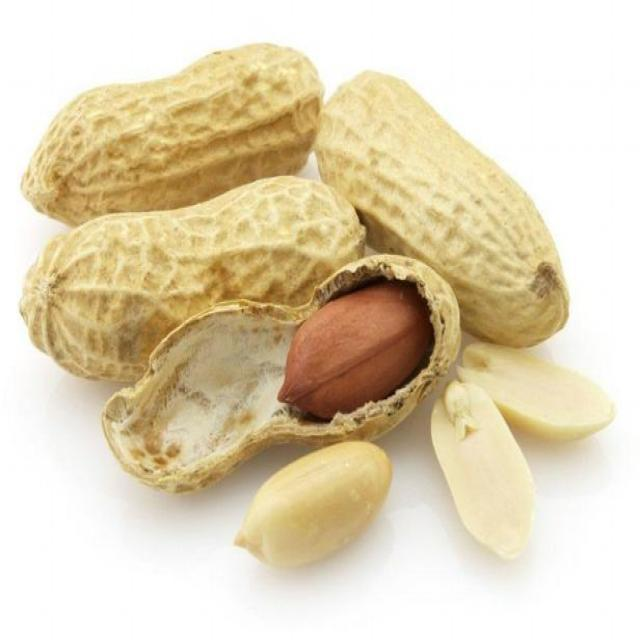Frutta secca: (311, 61, 581, 355), (19, 172, 371, 395), (19, 32, 327, 210), (223, 436, 397, 570), (432, 380, 537, 566)
